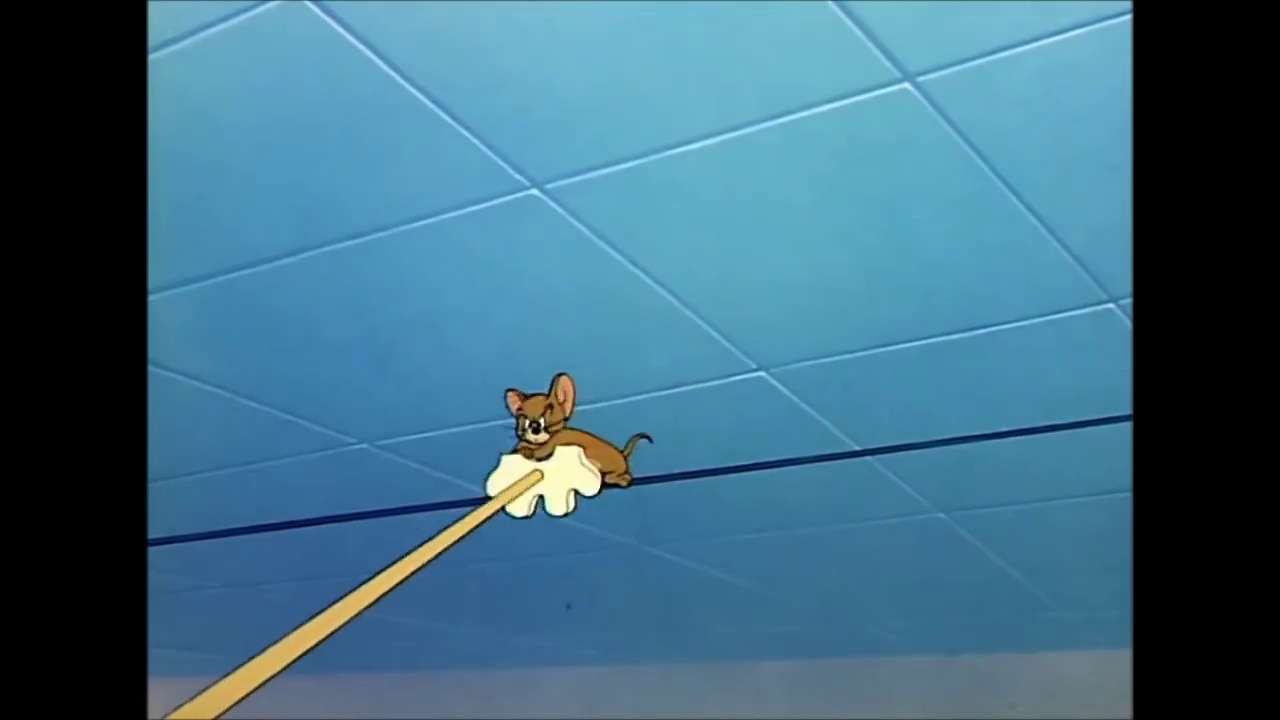angry: (515, 402, 554, 443)
